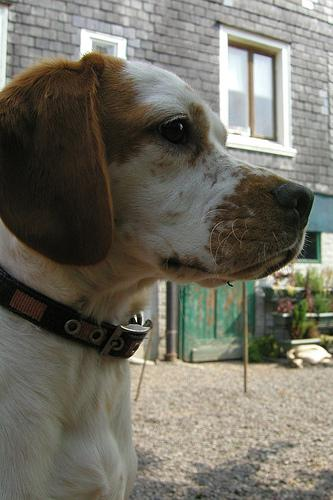dog-beagle: (0, 53, 316, 285)
